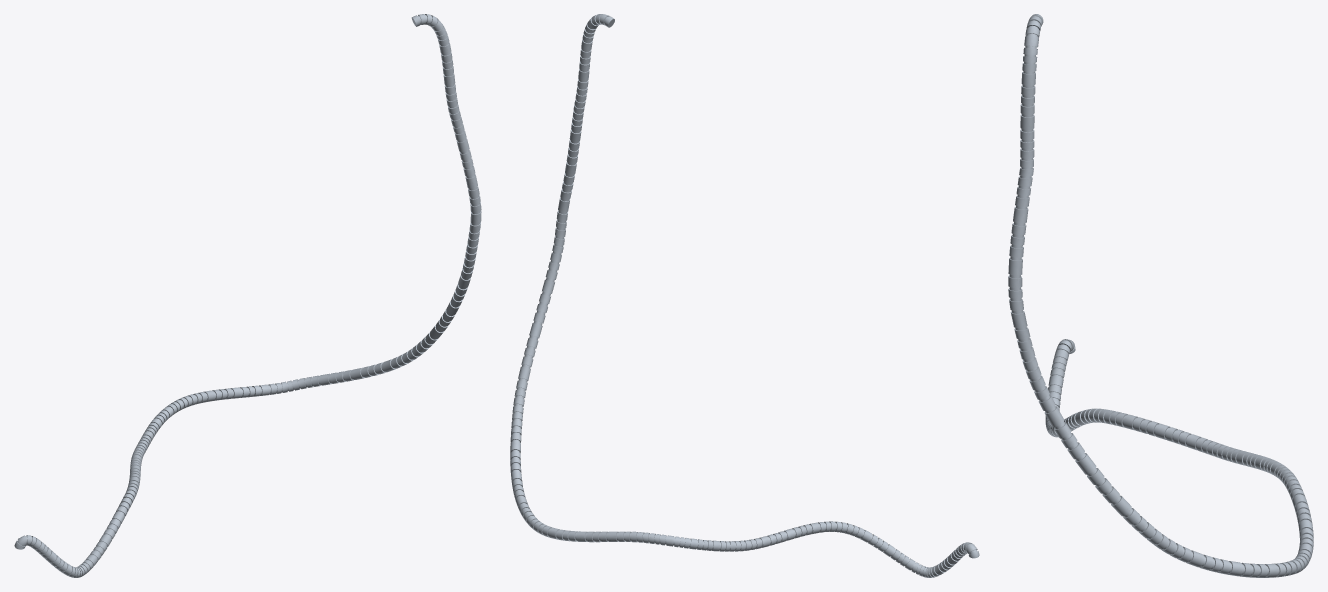
The model's file is SM_Cable_1_Splines_28.fbx.
3 renders of one model, left to right at view 1: azimuth 30°, elevation 25°; view 2: azimuth 150°, elevation 25°; view 3: azimuth 270°, elevation 25°, orthographic. The views are drawn at different scales.
Visible parts, largest first — view 1: SM_Cable_1_Splines_28; view 2: SM_Cable_1_Splines_28; view 3: SM_Cable_1_Splines_28.
Boxes of the visible parts, bbox=[...] form: SM_Cable_1_Splines_28: bbox=[14, 14, 481, 577]; SM_Cable_1_Splines_28: bbox=[510, 14, 979, 577]; SM_Cable_1_Splines_28: bbox=[1008, 14, 1313, 577].
Bounding box in the file's own units: 276 × 126 × 285.
